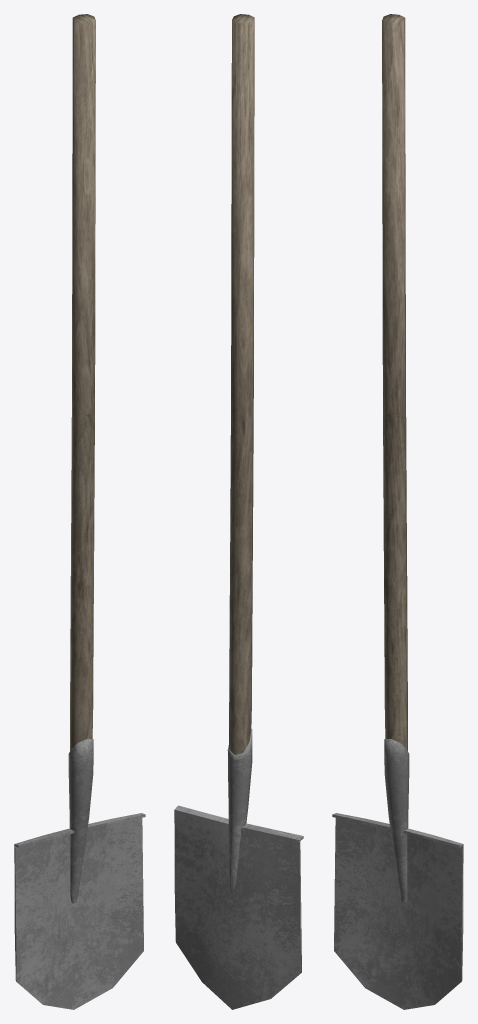
3 renders of one model, left to right at view 1: azimuth 30°, elevation 25°; view 2: azimuth 150°, elevation 25°; view 3: azimuth 330°, elevation 25°, orthographic.
Visible parts, largest first — view 1: JJ_Tieqiao; view 2: JJ_Tieqiao; view 3: JJ_Tieqiao.
Part boxes in pixels (x1,y1,x2,y2): JJ_Tieqiao: [14, 14, 145, 1009]; JJ_Tieqiao: [174, 14, 303, 1009]; JJ_Tieqiao: [332, 14, 463, 1009].
Bounding box in the file's own units: 21.32 × 160 × 5.43.
Materials: 2 (2 with a texture image).
